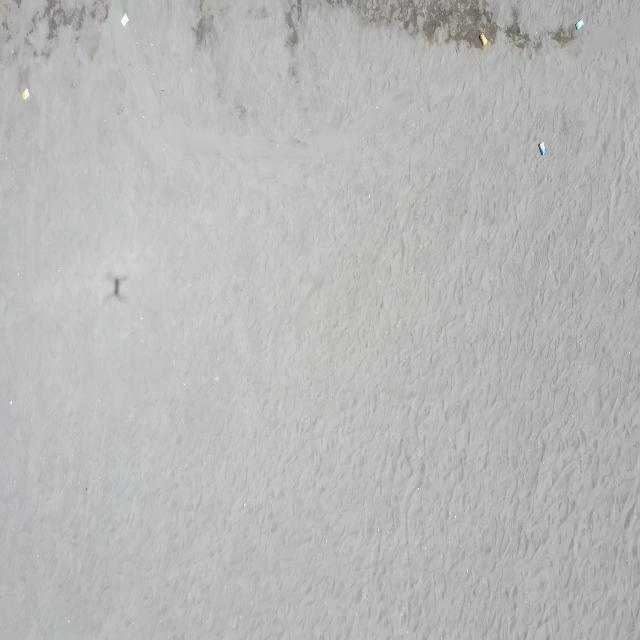retort-pouch: (537, 139, 547, 159), (120, 12, 130, 28), (478, 32, 488, 48), (575, 17, 584, 32), (23, 88, 30, 103)
